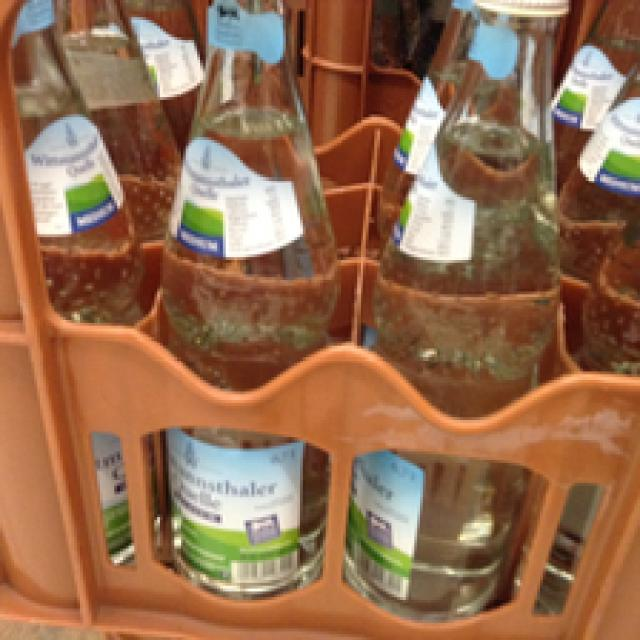groceries: (349, 0, 574, 626), (152, 0, 337, 600), (5, 0, 140, 574)
